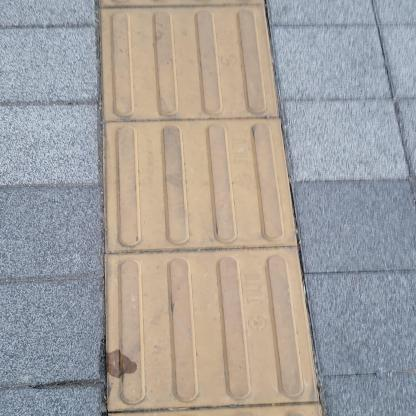podotacti: (84, 0, 337, 415)
